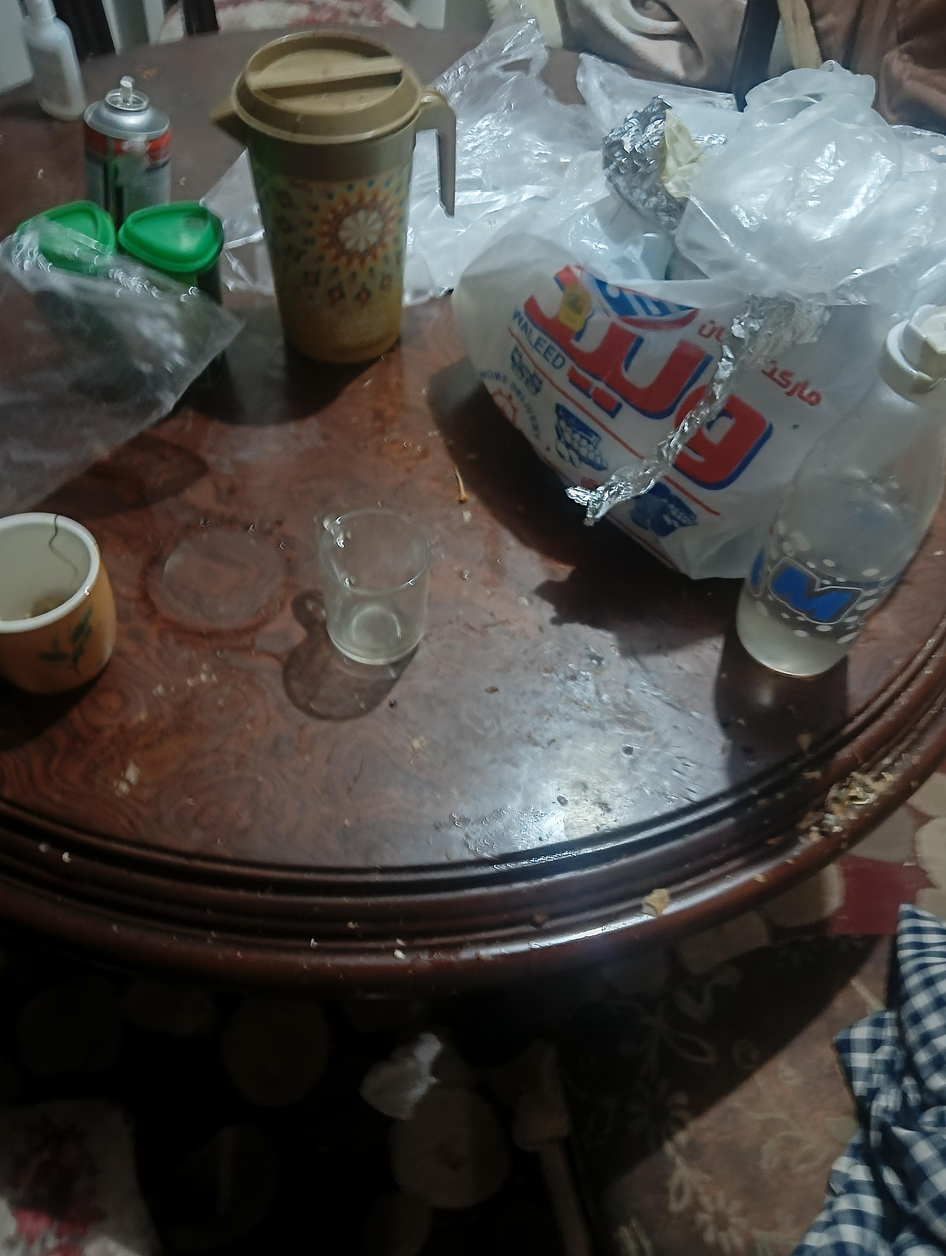cup: (212, 31, 455, 363), (0, 512, 115, 693), (318, 508, 431, 664)
